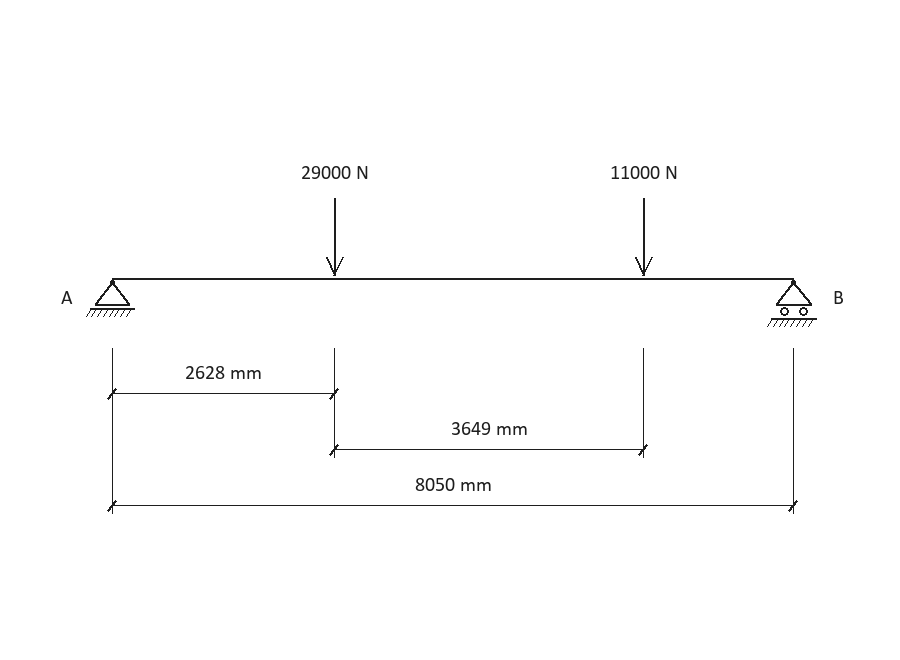pin_support: (86, 280, 135, 317)
point_load: (326, 198, 344, 276), (635, 198, 653, 276)
roller_support: (767, 280, 817, 327)
